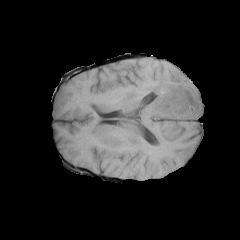glioma: (94, 69, 201, 147)
